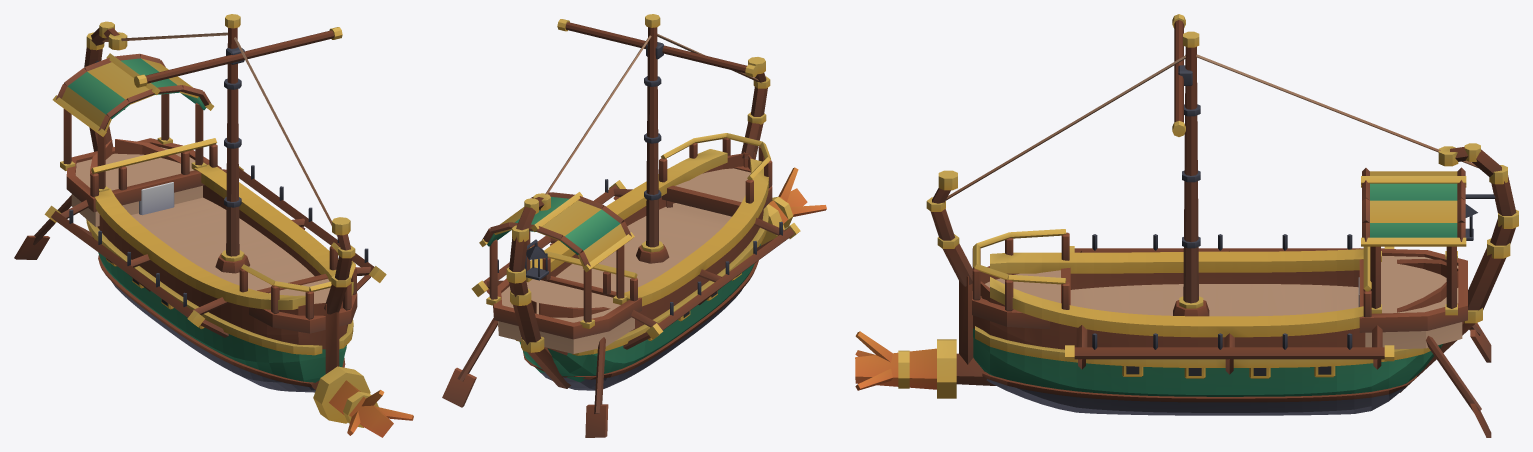
File: breaker.glb
The picture shows the model from 3 angles, left to right: view 1: azimuth 30°, elevation 25°; view 2: azimuth 150°, elevation 25°; view 3: azimuth 270°, elevation 25°; orthographic projection. The views are drawn at different scales.
Visible parts, largest first — view 1: breaker; view 2: breaker; view 3: breaker.
Part boxes in pixels (x1,y1,x2,y2): breaker: (14,14,413,437); breaker: (442,14,826,437); breaker: (855,14,1518,437).
Size of the model in its own units: 3.24 by 5.05 by 8.2.
